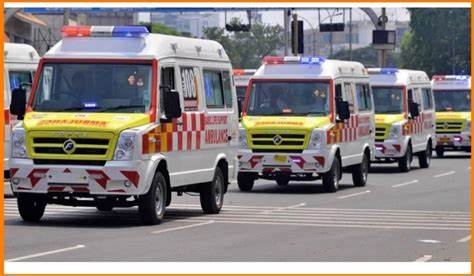ambulance: (17, 21, 233, 237), (247, 48, 370, 200), (375, 68, 440, 166)
